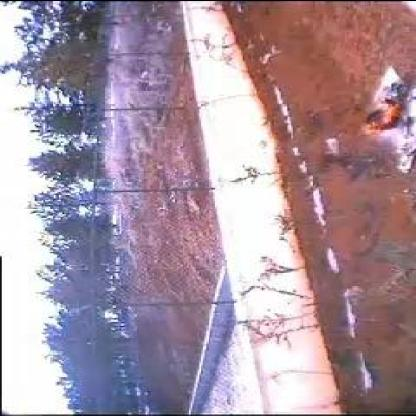foggia-v2-map80-epoch100 - v1 4323: (378, 95, 400, 130)
